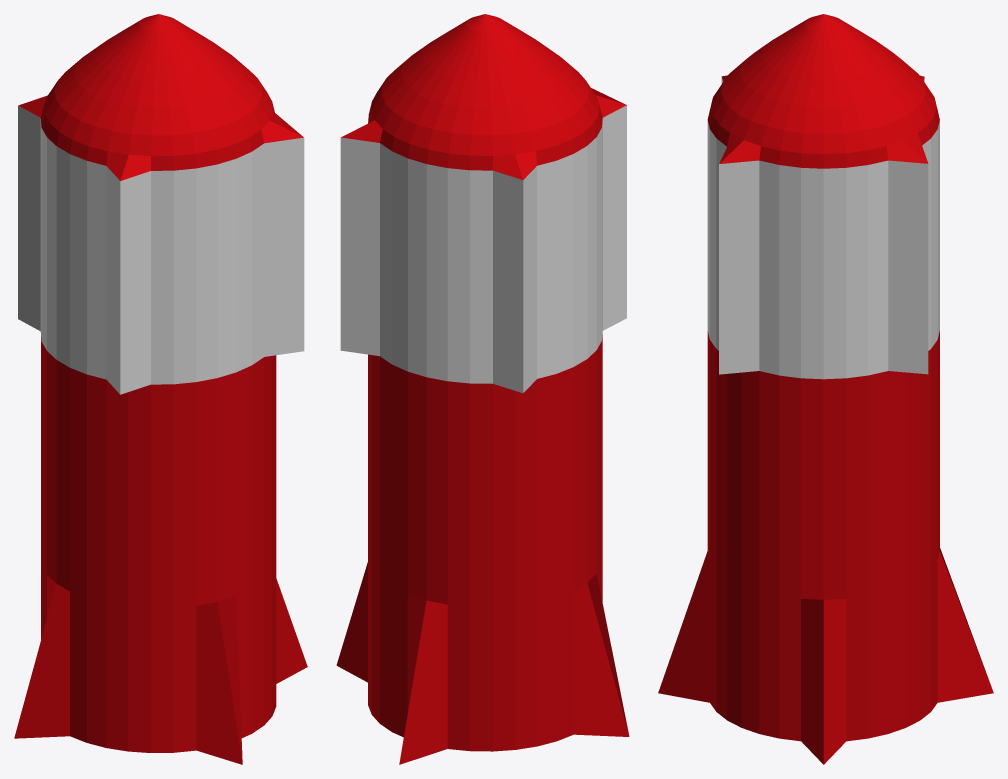
Rendered from BigBullet.fbx.
3 views of the same model, side by side, from view 1: azimuth 30°, elevation 25°; view 2: azimuth 150°, elevation 25°; view 3: azimuth 270°, elevation 25° (orthographic).
Parts seen in each view (by area): view 1: Cylinder; view 2: Cylinder; view 3: Cylinder.
Boxes of the visible parts, x1,y1,x2,y2 form: Cylinder: (14,14,307,764); Cylinder: (336,14,629,764); Cylinder: (658,14,993,764).
Bounding box in the file's own units: 78.2 × 175 × 78.6.
